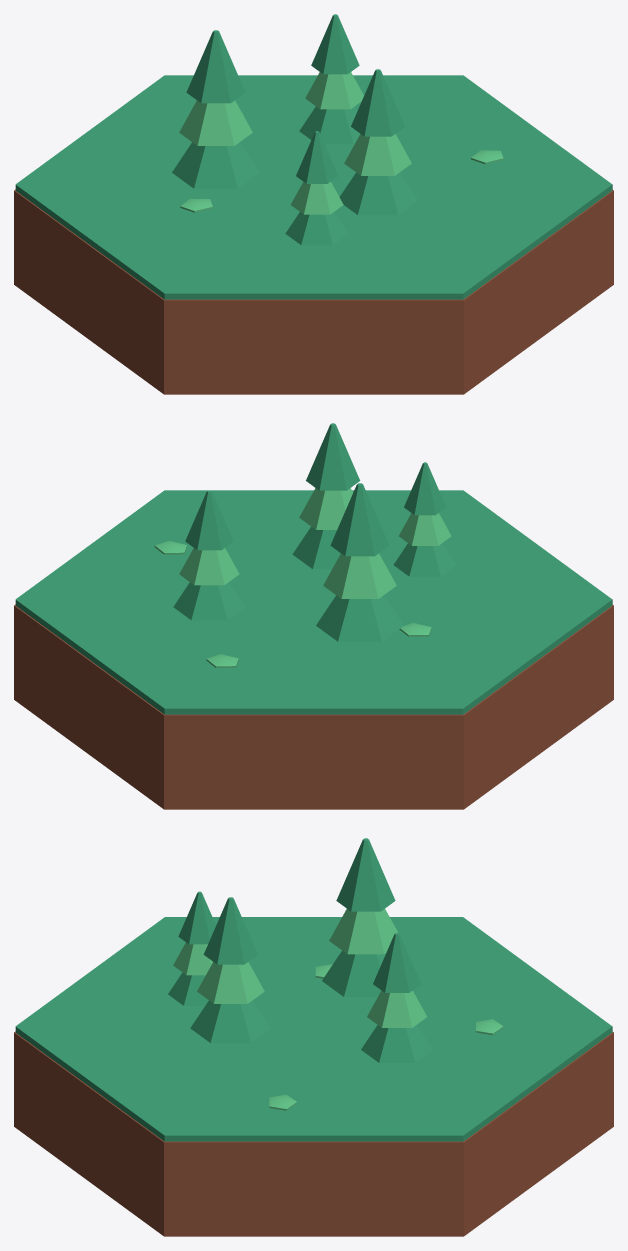
File: grass-forest.glb
The picture shows the model from 3 angles, top to bottom: view 1: azimuth 30°, elevation 25°; view 2: azimuth 150°, elevation 25°; view 3: azimuth 270°, elevation 25°; orthographic projection.
Visible parts, largest first — view 1: grass_forest; view 2: grass_forest; view 3: grass_forest.
Boxes of the visible parts, x1,y1,x2,y2 form: grass_forest: (14, 14, 613, 394); grass_forest: (14, 423, 613, 809); grass_forest: (14, 838, 613, 1236).
Bounding box in the file's own units: 1 × 0.535 × 1.15.
1 material, 1 textured.
